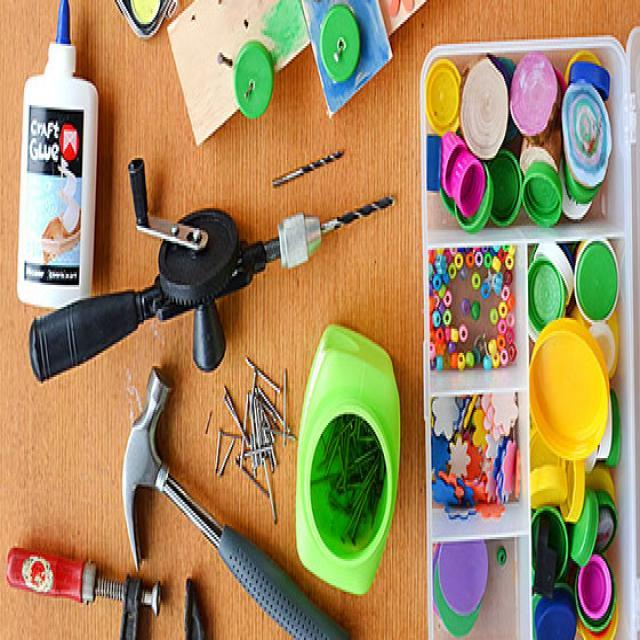hammer: (110, 364, 386, 640)
